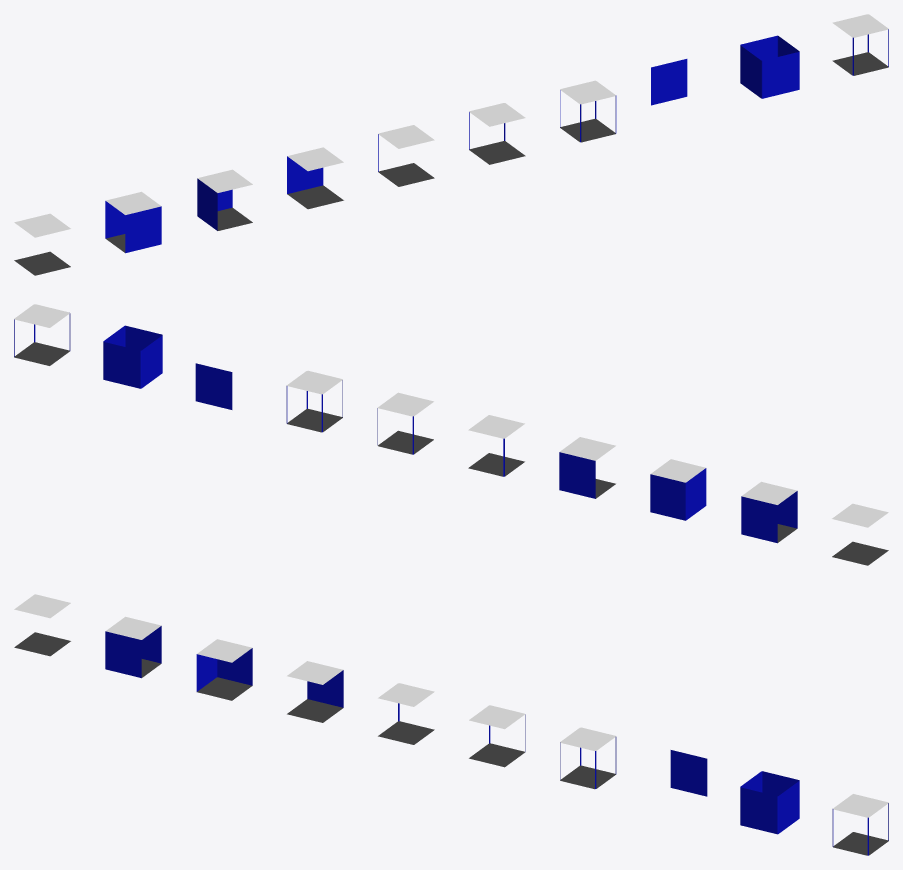
Rendered from Wolfenstein3D-RME_walls.fbx.
3 views of the same model, one above another, from view 1: azimuth 30°, elevation 25°; view 2: azimuth 150°, elevation 25°; view 3: azimuth 330°, elevation 25° (orthographic).
Parts seen in each view (by area): view 1: Piller, Tunnel, Wall, Corner, 4 Small Corners, 3 Small Corners, 2 Small Corners, 1 Small Corner, Plain, Plain Wall; view 2: Piller, Corner, Tunnel, Wall, 4 Small Corners, 3 Small Corners, 2 Small Corners, 1 Small Corner, Plain, Plain Wall; view 3: Piller, Corner, Tunnel, Wall, 4 Small Corners, 3 Small Corners, 2 Small Corners, 1 Small Corner, Plain, Plain Wall.
Part boxes in pixels (x1=…): Piller: x1=740, y1=35, x2=799, y2=98; Tunnel: x1=105, y1=191, x2=161, y2=253; Wall: x1=287, y1=147, x2=343, y2=209; Corner: x1=197, y1=169, x2=252, y2=230; 4 Small Corners: x1=560, y1=80, x2=616, y2=142; 3 Small Corners: x1=832, y1=14, x2=888, y2=75; 2 Small Corners: x1=469, y1=103, x2=525, y2=164; 1 Small Corner: x1=378, y1=125, x2=434, y2=186; Plain: x1=14, y1=213, x2=70, y2=275; Plain Wall: x1=651, y1=59, x2=687, y2=105; Piller: x1=103, y1=325, x2=162, y2=388; Corner: x1=650, y1=459, x2=706, y2=520; Tunnel: x1=741, y1=481, x2=797, y2=543; Wall: x1=559, y1=437, x2=615, y2=498; 4 Small Corners: x1=286, y1=370, x2=342, y2=432; 3 Small Corners: x1=14, y1=304, x2=70, y2=365; 2 Small Corners: x1=377, y1=392, x2=433, y2=454; 1 Small Corner: x1=468, y1=415, x2=524, y2=476; Plain: x1=832, y1=503, x2=888, y2=565; Plain Wall: x1=195, y1=363, x2=232, y2=409; Piller: x1=740, y1=771, x2=799, y2=834; Corner: x1=196, y1=639, x2=252, y2=700; Tunnel: x1=105, y1=616, x2=161, y2=678; Wall: x1=287, y1=661, x2=343, y2=722; 4 Small Corners: x1=560, y1=727, x2=616, y2=789; 3 Small Corners: x1=832, y1=794, x2=888, y2=855; 2 Small Corners: x1=469, y1=705, x2=525, y2=767; 1 Small Corner: x1=378, y1=683, x2=434, y2=744; Plain: x1=14, y1=594, x2=70, y2=656; Plain Wall: x1=670, y1=750, x2=707, y2=796.
Bounding box in the file's own units: 47 × 2.1 × 2.
